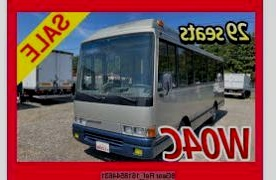bus: (69, 18, 224, 160)
